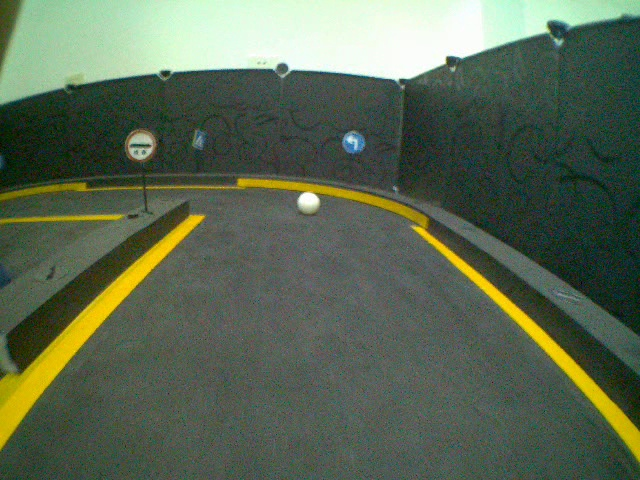ball: (295, 189, 322, 218)
